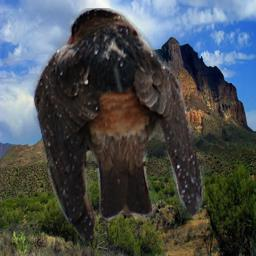Swallow: (33, 8, 205, 244)
